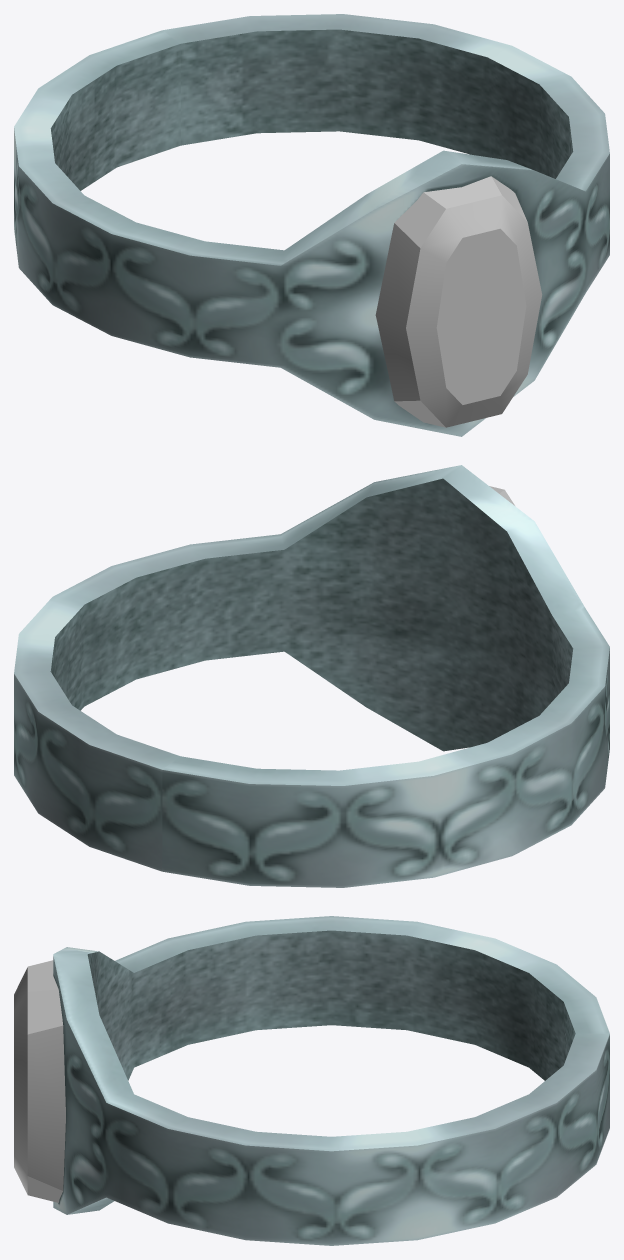
File: ring_silver_11.fbx
The picture shows the model from 3 angles, top to bottom: view 1: azimuth 30°, elevation 25°; view 2: azimuth 150°, elevation 25°; view 3: azimuth 270°, elevation 25°; orthographic projection. The views are drawn at different scales.
Parts seen in each view (by area): view 1: ring_silver_11; view 2: ring_silver_11; view 3: ring_silver_11.
Boxes of the visible parts, x1,y1,x2,y2 form: ring_silver_11: [14, 14, 609, 436]; ring_silver_11: [14, 465, 609, 887]; ring_silver_11: [14, 916, 609, 1245].
Size of the model in its own units: 2.04 by 1.03 by 2.19.
